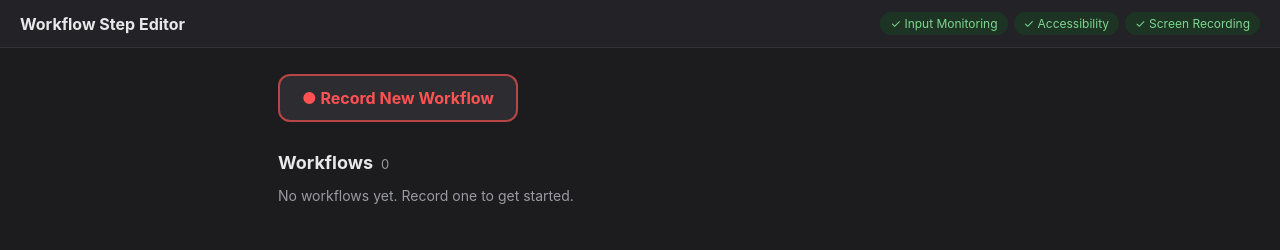
Test case: record flow › surfaces a rejected start on the landing page
This screenshot has width=1280, height=250.
Click the button "● Record New Workflow".
click(398, 98)  # box [278,74,518,122]
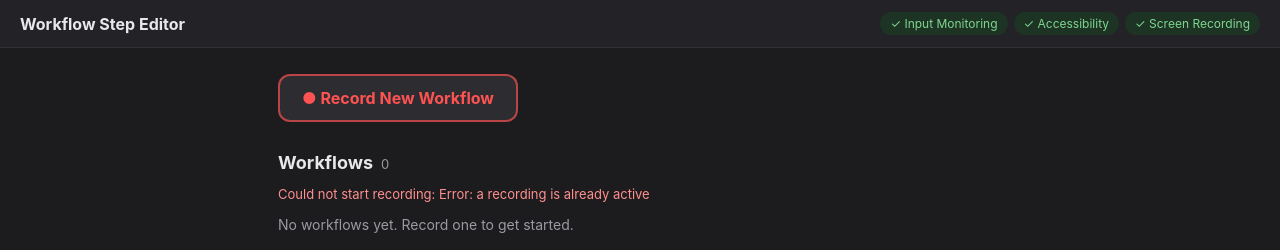
Expected: the message shows "Could not start recording", [278,186,650,202]
